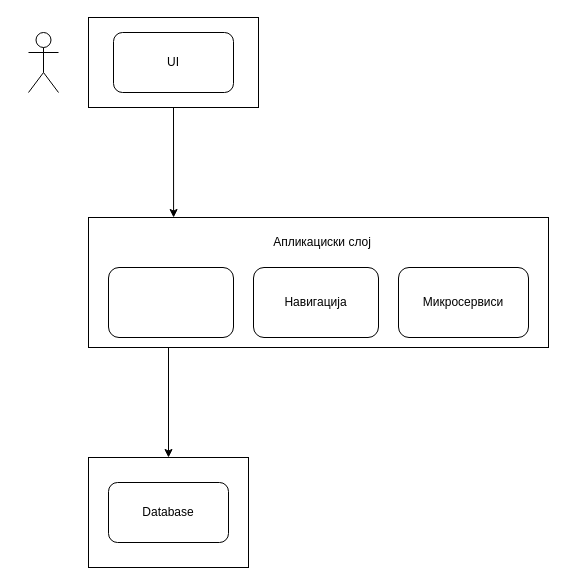
The diagram is 566 pixels wide and 585 high, and some of its shapes have lost their labels. The box of each missing label's shape, as (x1, y1, x2, y2) in pixels:
Корисник: (28, 32, 58, 92)
Пребарување: (108, 266, 234, 338)
